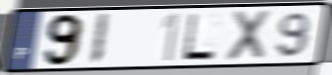1: (160, 11, 182, 64)
9: (42, 13, 86, 68), (273, 10, 316, 59)
I: (87, 12, 112, 66)
L: (180, 11, 218, 62)
X: (223, 8, 274, 63)
